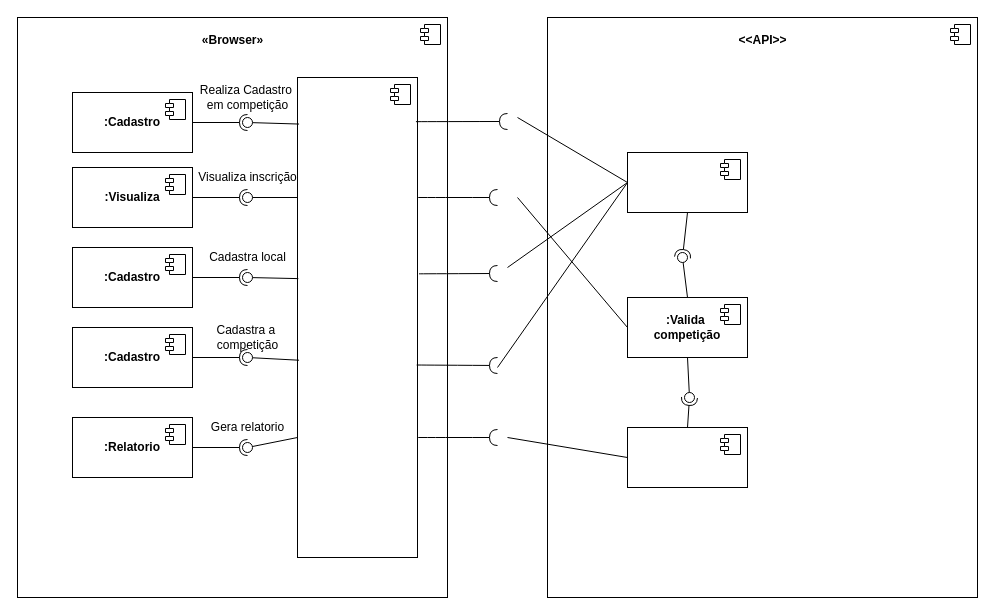
Image size: 995x615. Some labels were removed from this diagram. Each missing label, with the centre of its shape:
":apiHandler" belongs at pixel 357 317.
":Gera relatorio" belongs at pixel 687 457.
":Gerencia competição" belongs at pixel 687 182.
